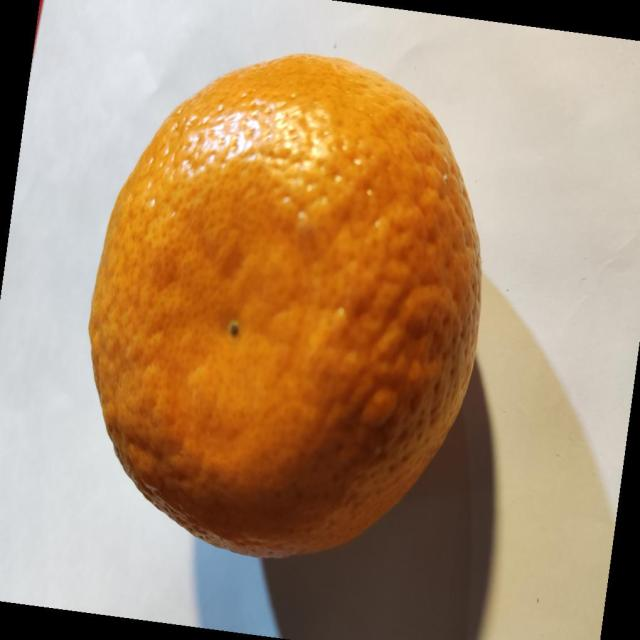fresh orange: (87, 52, 483, 559)
